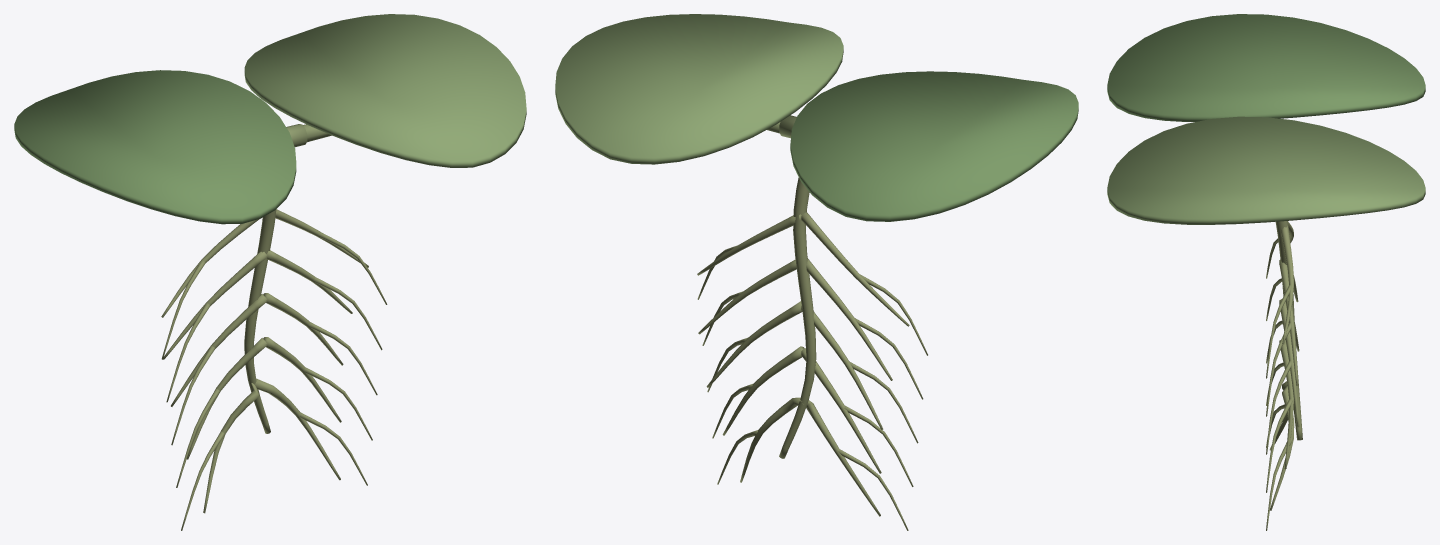
3 views of the same model, side by side, from view 1: azimuth 30°, elevation 25°; view 2: azimuth 150°, elevation 25°; view 3: azimuth 270°, elevation 25° (orthographic). The views are drawn at different scales.
Parts seen in each view (by area): view 1: exactly-two-broad-floating-leaves, one-dissected-submerged-leaf-NOT-ROOTS, short-node-and-floating-leaf-petioles; view 2: exactly-two-broad-floating-leaves, one-dissected-submerged-leaf-NOT-ROOTS; view 3: exactly-two-broad-floating-leaves, one-dissected-submerged-leaf-NOT-ROOTS.
Part boxes in pixels (x1=…): exactly-two-broad-floating-leaves: x1=14, y1=14, x2=526, y2=224; one-dissected-submerged-leaf-NOT-ROOTS: x1=161, y1=209, x2=387, y2=530; short-node-and-floating-leaf-petioles: x1=286, y1=124, x2=331, y2=147; exactly-two-broad-floating-leaves: x1=555, y1=14, x2=1078, y2=221; one-dissected-submerged-leaf-NOT-ROOTS: x1=697, y1=177, x2=927, y2=530; exactly-two-broad-floating-leaves: x1=1107, y1=14, x2=1425, y2=224; one-dissected-submerged-leaf-NOT-ROOTS: x1=1266, y1=221, x2=1302, y2=530.
Bounding box in the file's own units: 0.06 × 0.0518 × 0.04.
